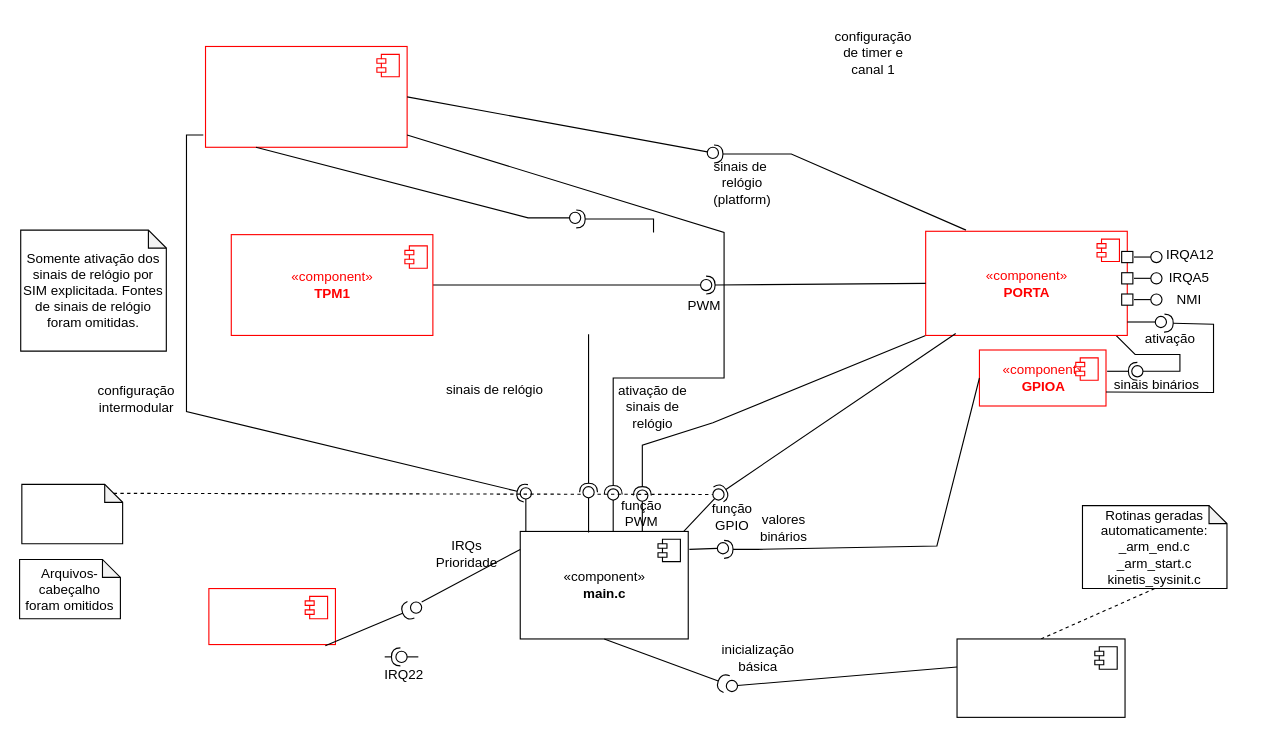
This 1262x737 diagram has some shape labels left out. Each missing label, with the centre of its shape:
Customização dos módulos: point 72,513
«component» NVIC: point 271,616
«component» Setup Code: point 1040,677
«component» SIM: point 305,96
